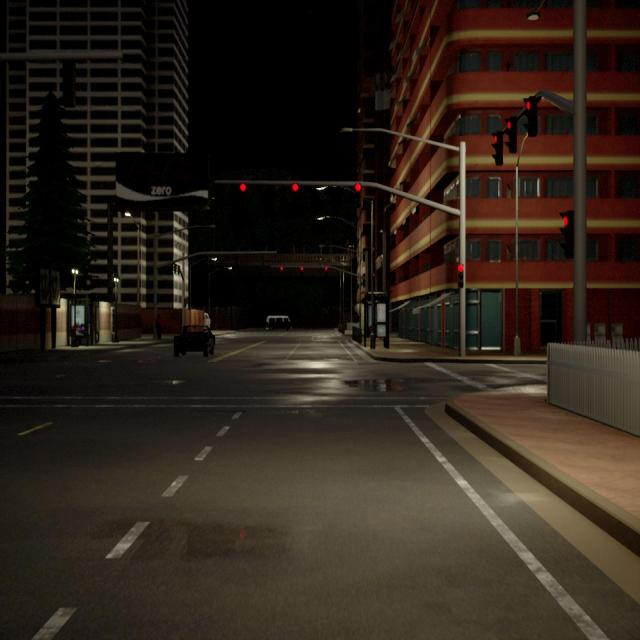Pedestrian: (155, 314, 163, 341)
Vehicle: (173, 326, 216, 357), (265, 316, 292, 332), (204, 312, 211, 326)
traffic_light: (559, 209, 574, 259), (523, 97, 538, 138), (505, 116, 517, 154), (492, 130, 503, 166), (456, 263, 464, 288), (354, 182, 362, 192), (239, 182, 246, 191), (292, 182, 298, 192), (280, 266, 284, 272), (324, 266, 328, 272), (300, 266, 304, 271)
